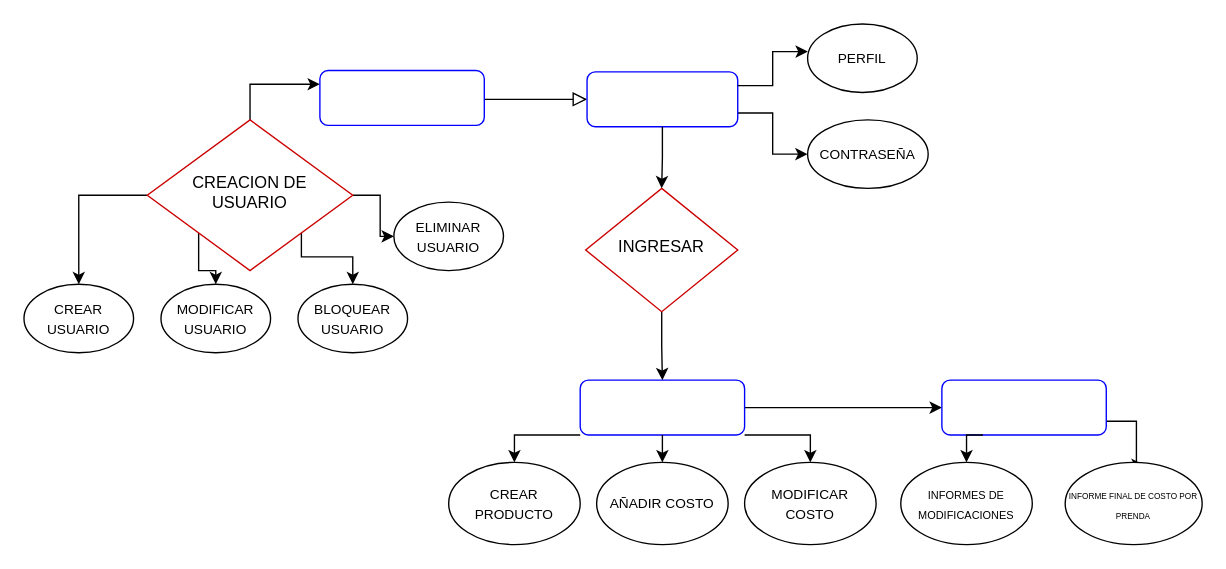
This 1226x569 diagram has some shape labels left out. The shapes that lost their labels are listed below. From the top down, each one's centre as x and y in pixels, then its label:
At point (401, 97): "ADMINISTRADOR".
At point (662, 99): "USUARIO".
At point (662, 407): "PRODUCTOS".
At point (1023, 407): "GENERA".
